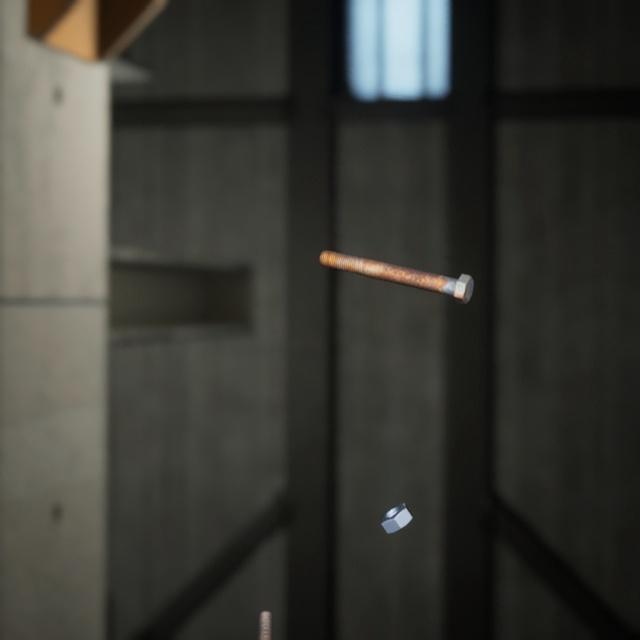bolt: (315, 230, 478, 293)
nut: (375, 477, 417, 517)
